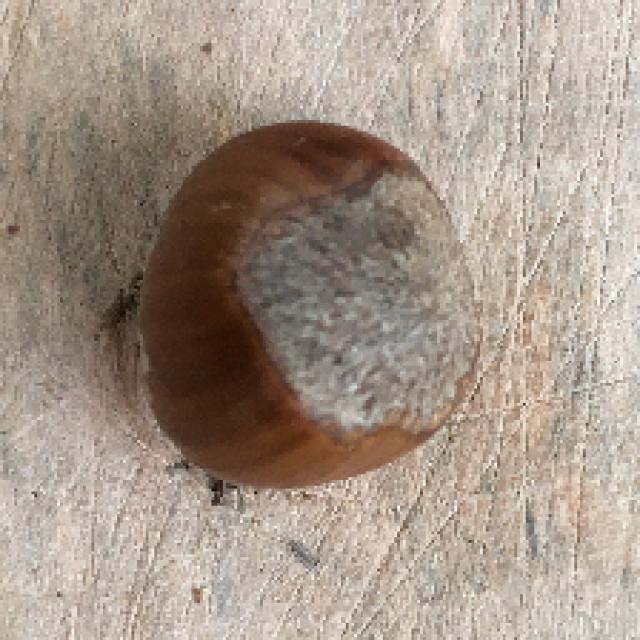qualityHazelnut: (136, 99, 474, 501)
